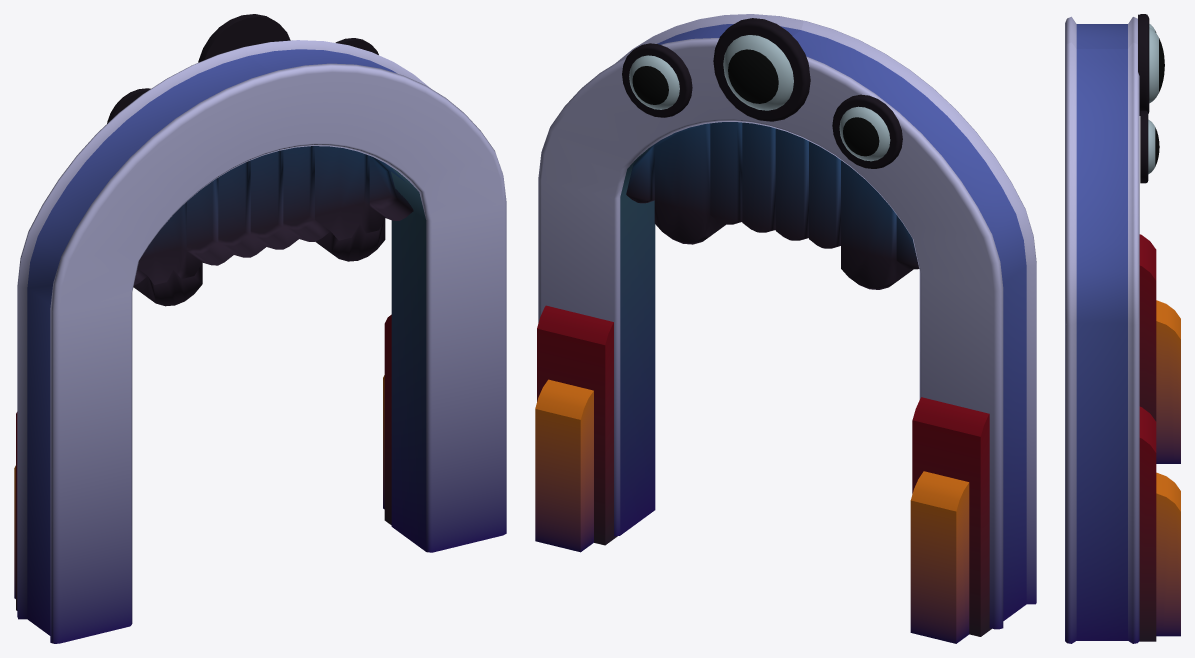
The model's file is door_frame.fbx.
The picture shows the model from 3 angles, left to right: view 1: azimuth 30°, elevation 25°; view 2: azimuth 150°, elevation 25°; view 3: azimuth 270°, elevation 25°; orthographic projection. The views are drawn at different scales.
Parts seen in each view (by area): view 1: door_frame; view 2: door_frame; view 3: door_frame.
Boxes of the visible parts, left/top/right/bottom form: door_frame: left=14, top=14, right=506, bottom=643; door_frame: left=535, top=14, right=1036, bottom=643; door_frame: left=1065, top=14, right=1180, bottom=643.
Size of the model in its own units: 847 by 968 by 195.
